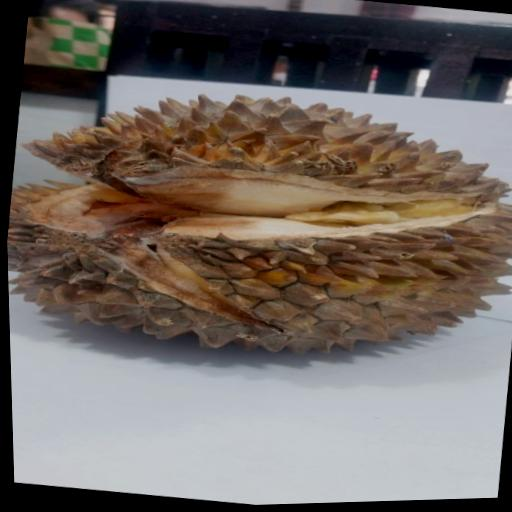rot: (2, 50, 512, 411)
